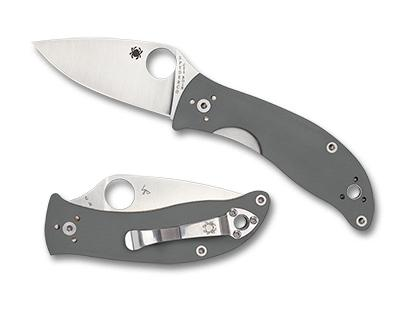Knife: (32, 36, 372, 231)
